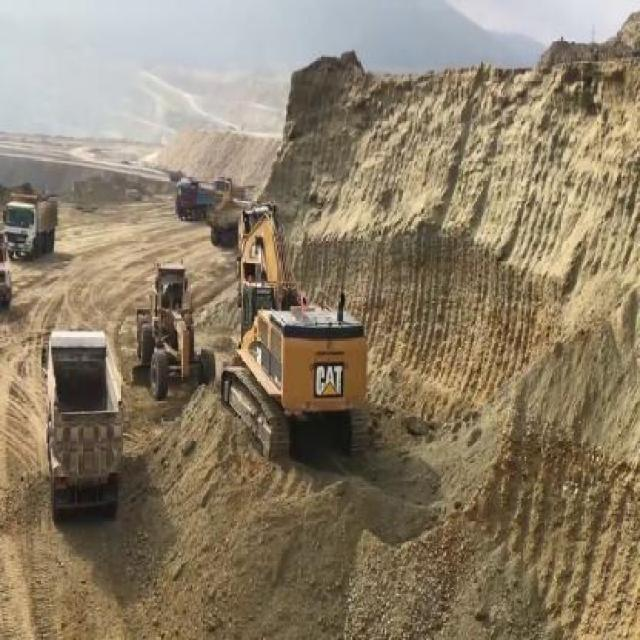dump_truck: (39, 323, 124, 528), (3, 190, 59, 264), (206, 195, 248, 247), (175, 177, 212, 221)
excavator: (218, 193, 369, 473)
